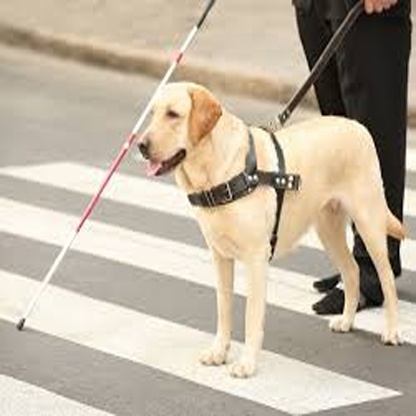guide-dog: (135, 80, 411, 382)
